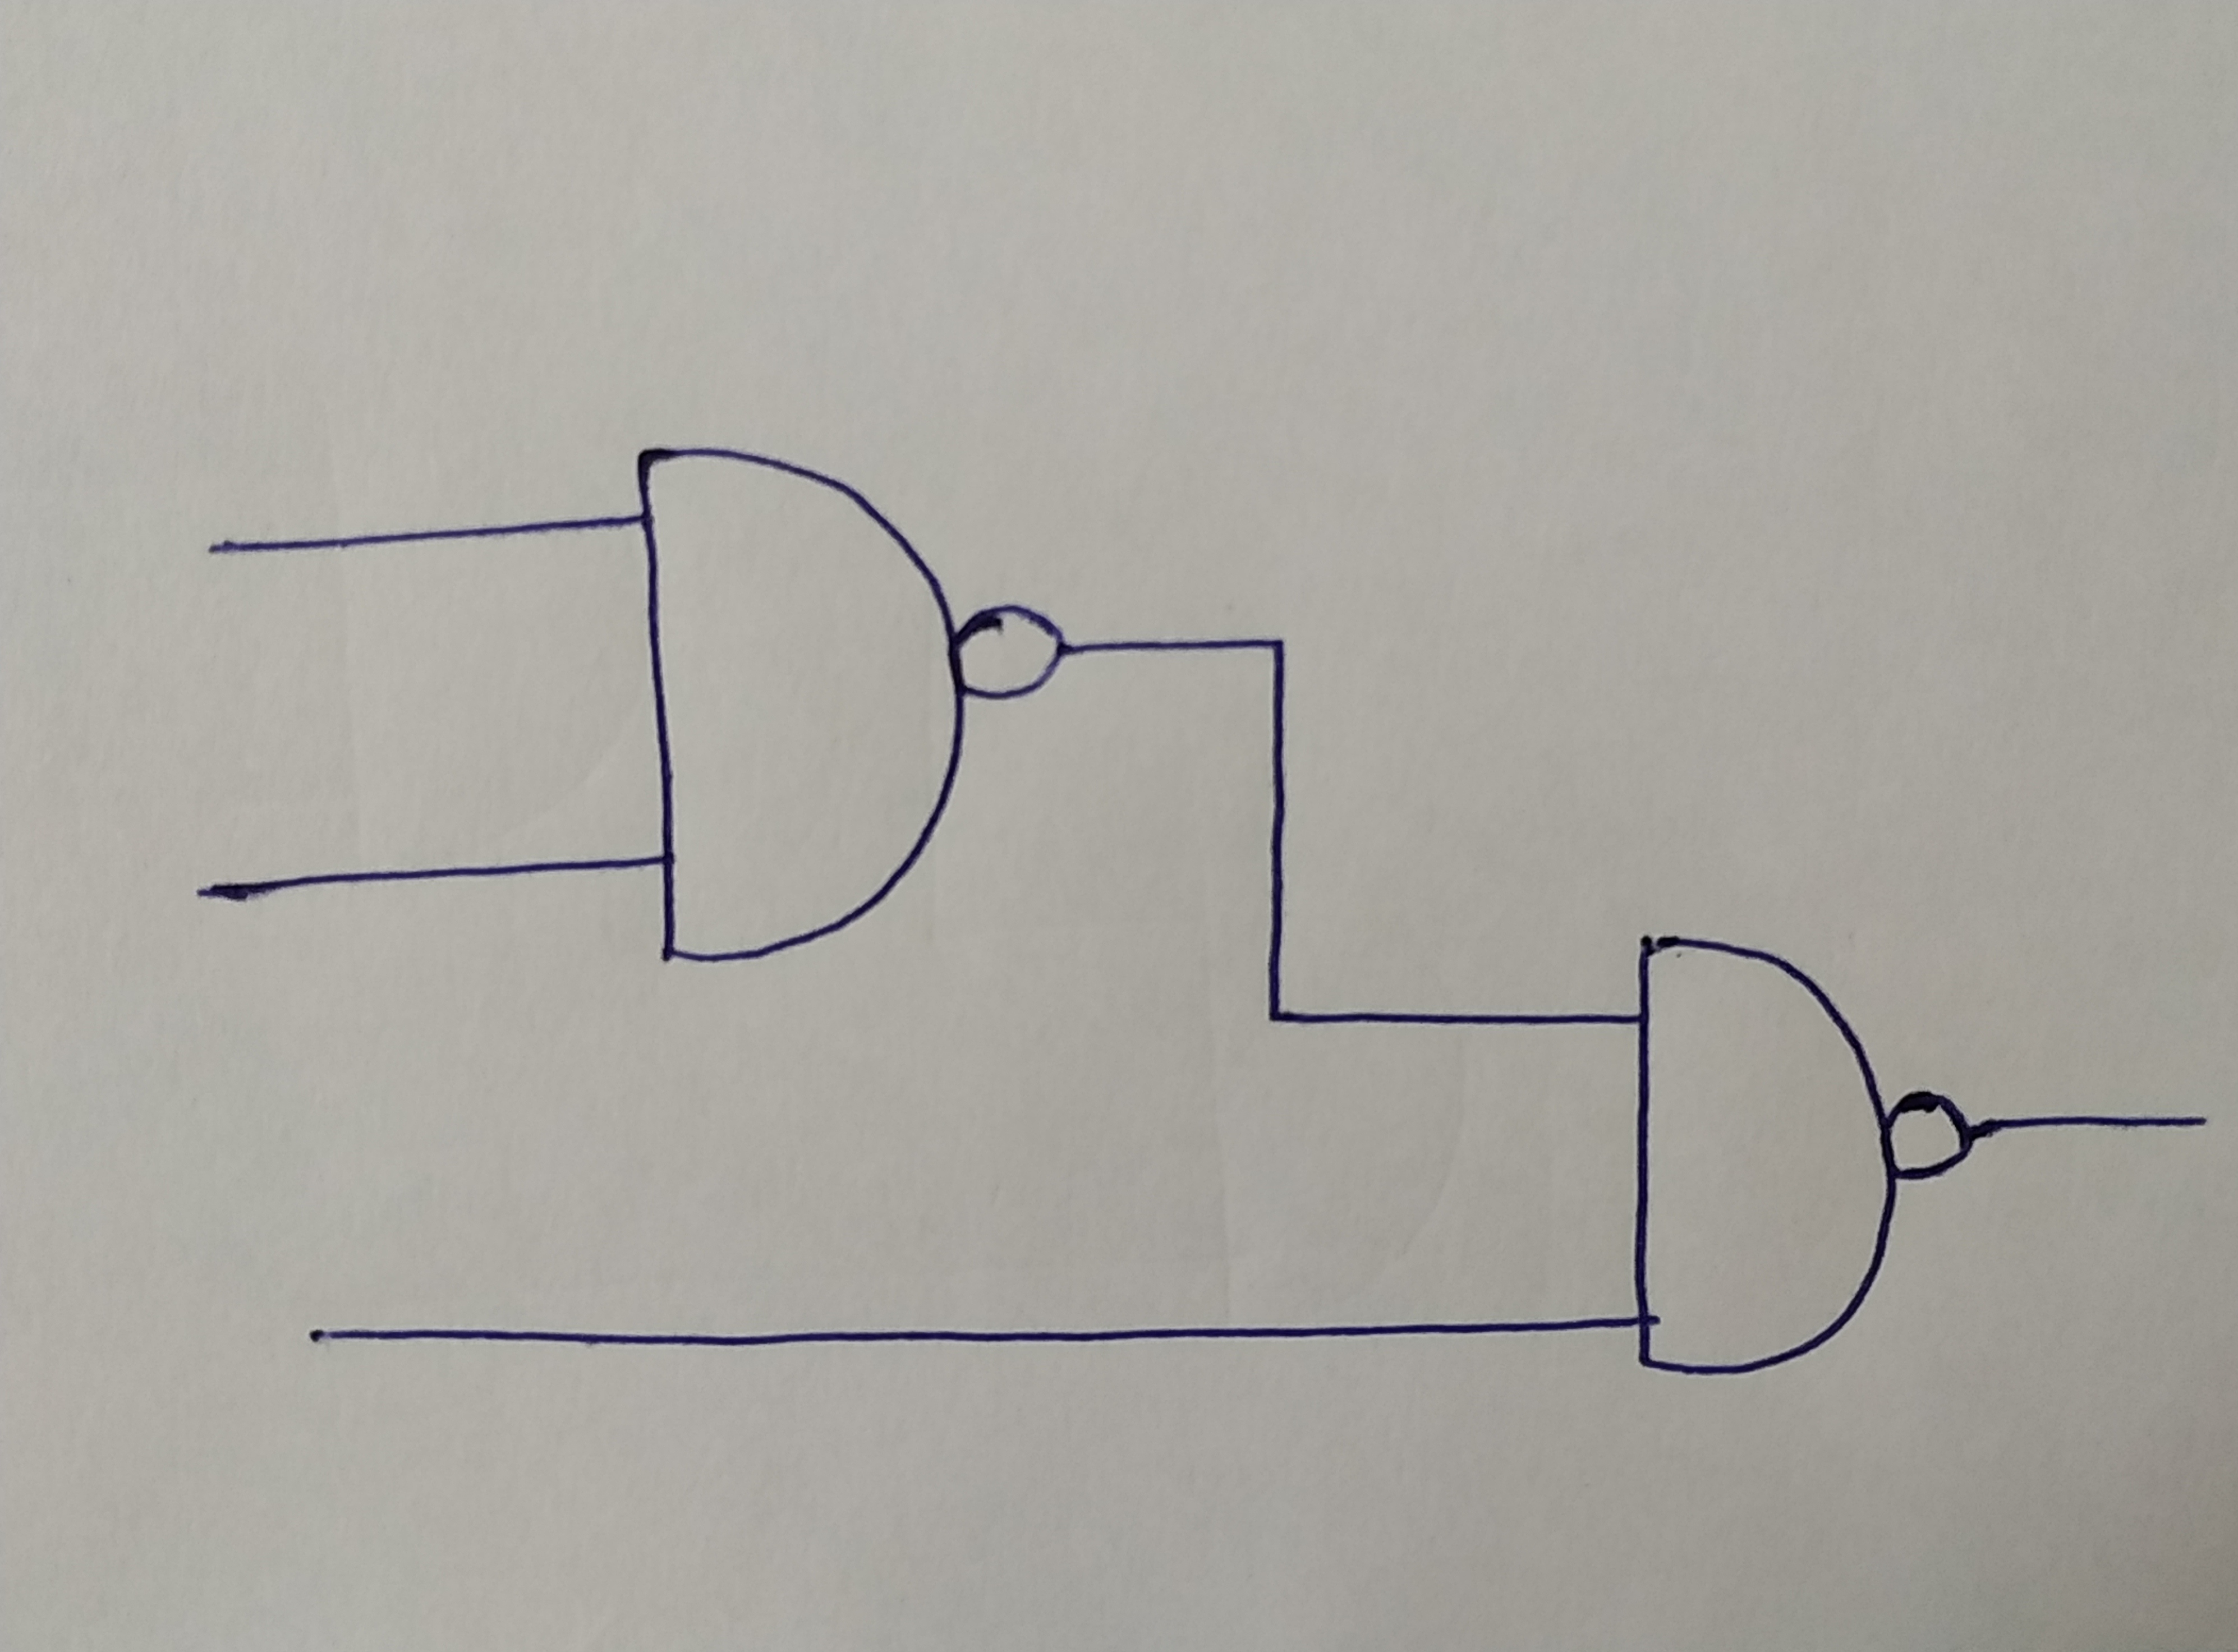and: (632, 439, 952, 962), (1633, 940, 1897, 1379)
not: (957, 608, 1067, 698), (1889, 1100, 1970, 1178)
